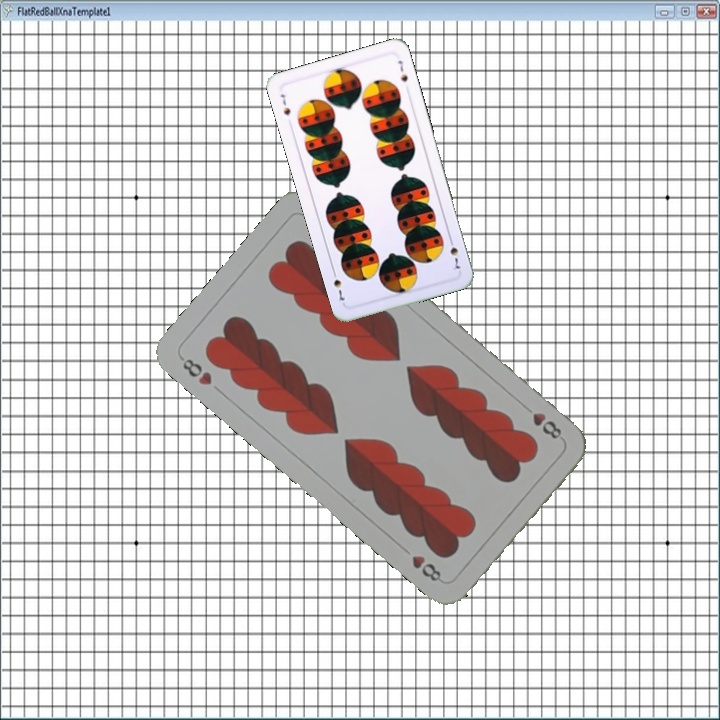H8: (518, 400, 566, 442), (176, 352, 215, 388)
S7: (445, 233, 462, 272), (276, 90, 293, 118)
